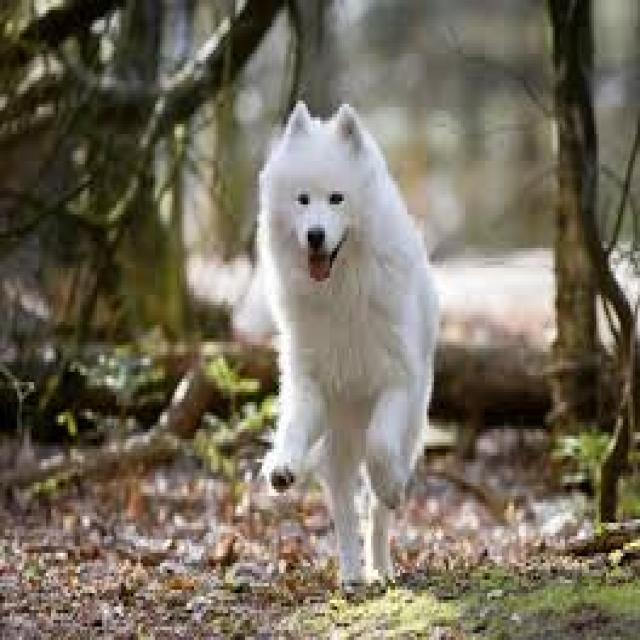dogs: (255, 101, 442, 589)
